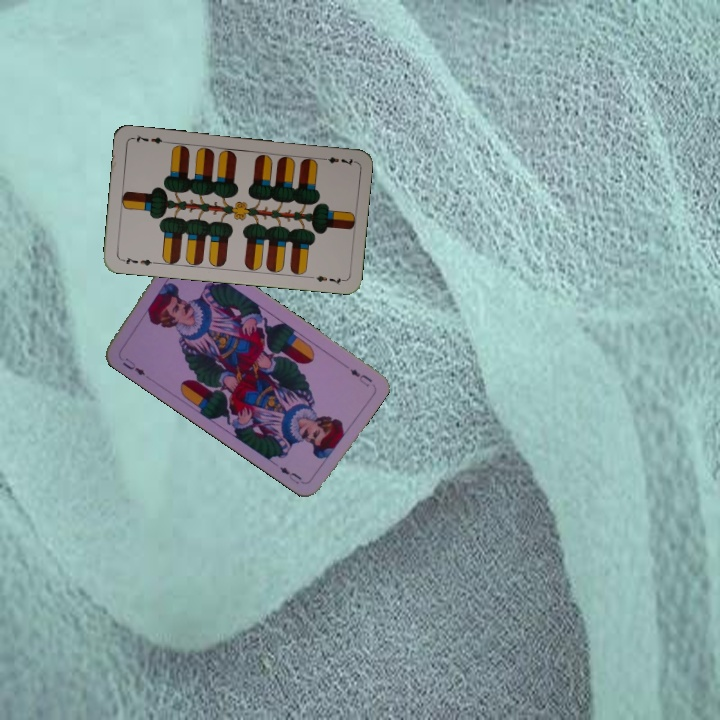E7: (117, 253, 158, 268), (316, 153, 356, 168)
EU: (118, 354, 148, 378), (345, 365, 375, 389)
